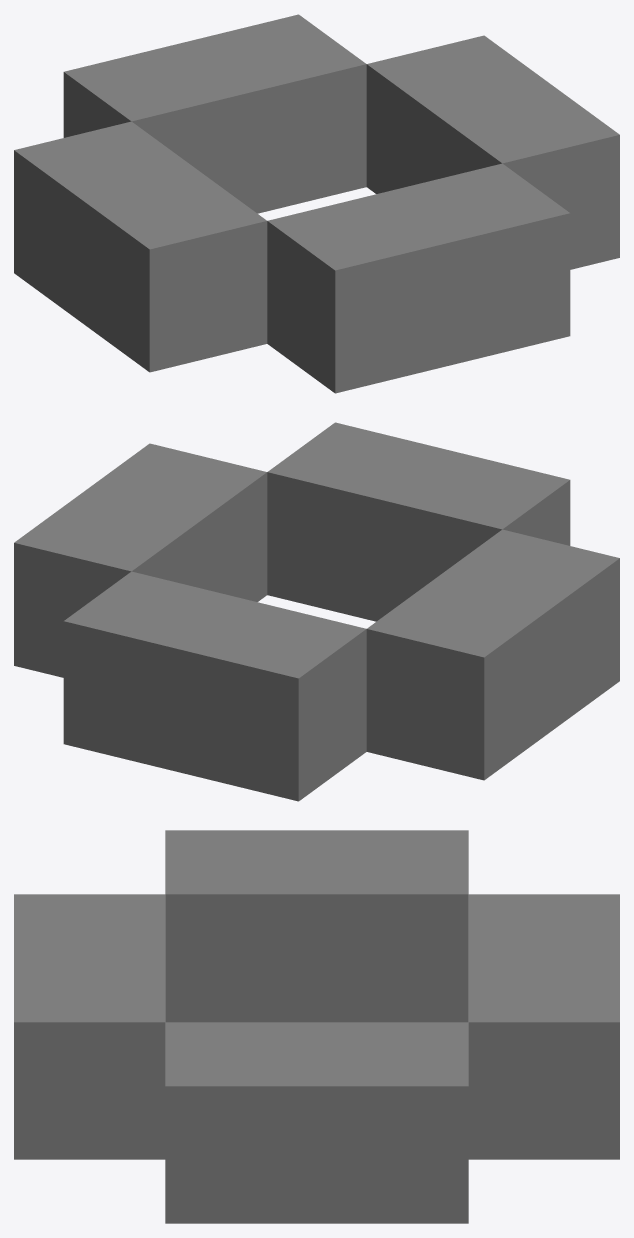
Rendered from throughbolt.obj.
3 views of the same model, one above another, from view 1: azimuth 30°, elevation 25°; view 2: azimuth 150°, elevation 25°; view 3: azimuth 270°, elevation 25° (orthographic). The views are drawn at different scales.
Size of the model in its own units: 0.4 by 0.1 by 0.4.
1 material, 1 textured.
